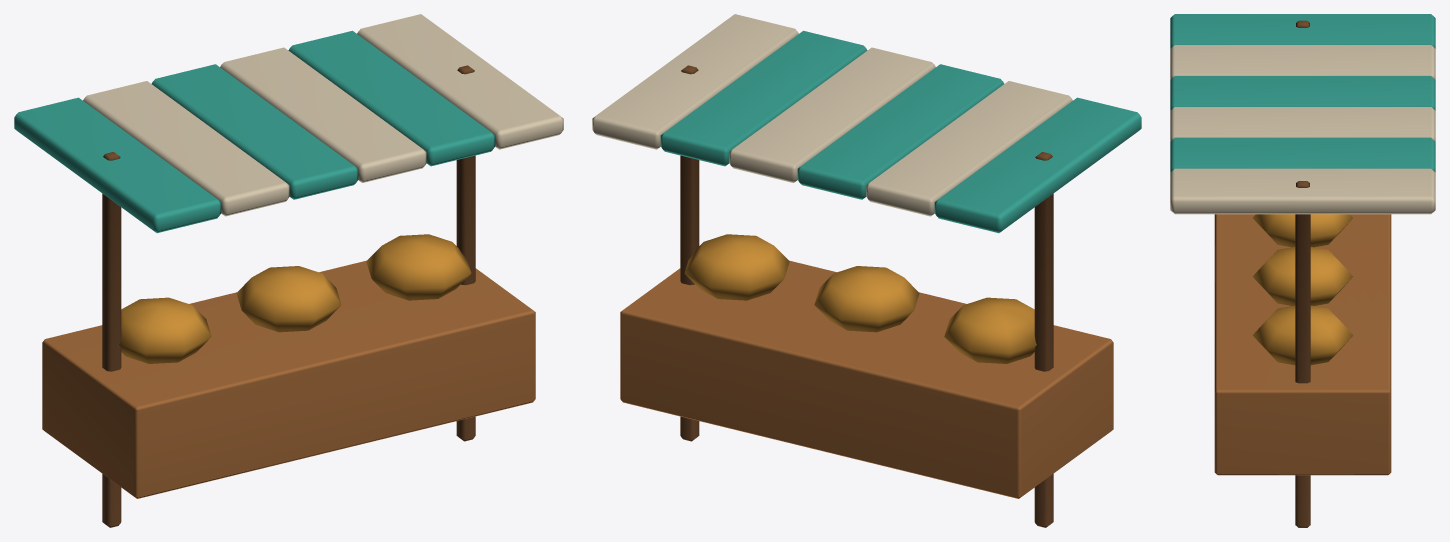
The model's file is market_stall.glb.
The picture shows the model from 3 angles, left to right: view 1: azimuth 30°, elevation 25°; view 2: azimuth 150°, elevation 25°; view 3: azimuth 270°, elevation 25°; orthographic projection. The views are drawn at different scales.
Parts seen in each view (by area): view 1: market_stall; view 2: market_stall; view 3: market_stall.
Part boxes in pixels (left/top/right/bottom): market_stall: left=14, top=14, right=563, bottom=527; market_stall: left=592, top=14, right=1141, bottom=527; market_stall: left=1170, top=14, right=1435, bottom=527.
Size of the model in its own units: 3.48 by 3 by 2.1.
